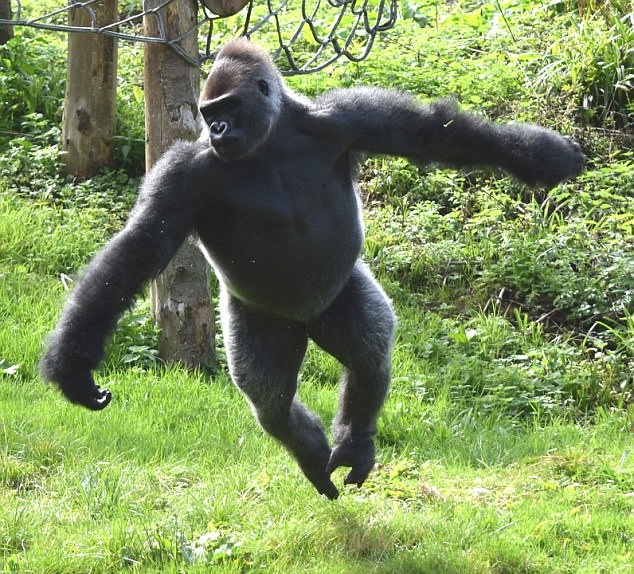Gorilla: (122, 25, 437, 476)
